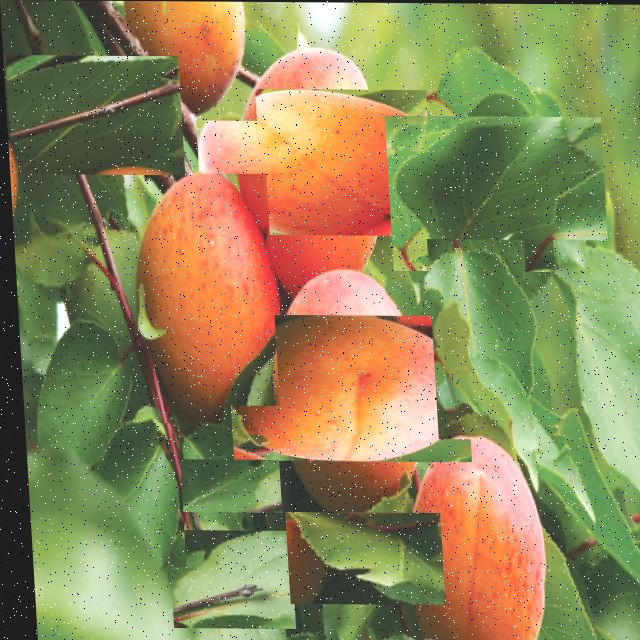Apricot: (243, 291, 444, 485), (213, 67, 412, 258), (129, 173, 275, 405), (398, 431, 543, 640), (107, 3, 256, 121), (6, 138, 17, 218)
Leaf: (398, 100, 593, 287), (551, 240, 640, 504), (424, 238, 530, 439), (5, 57, 177, 173), (19, 318, 126, 473), (279, 513, 437, 604), (91, 423, 175, 567), (165, 531, 285, 627), (168, 442, 260, 530)
